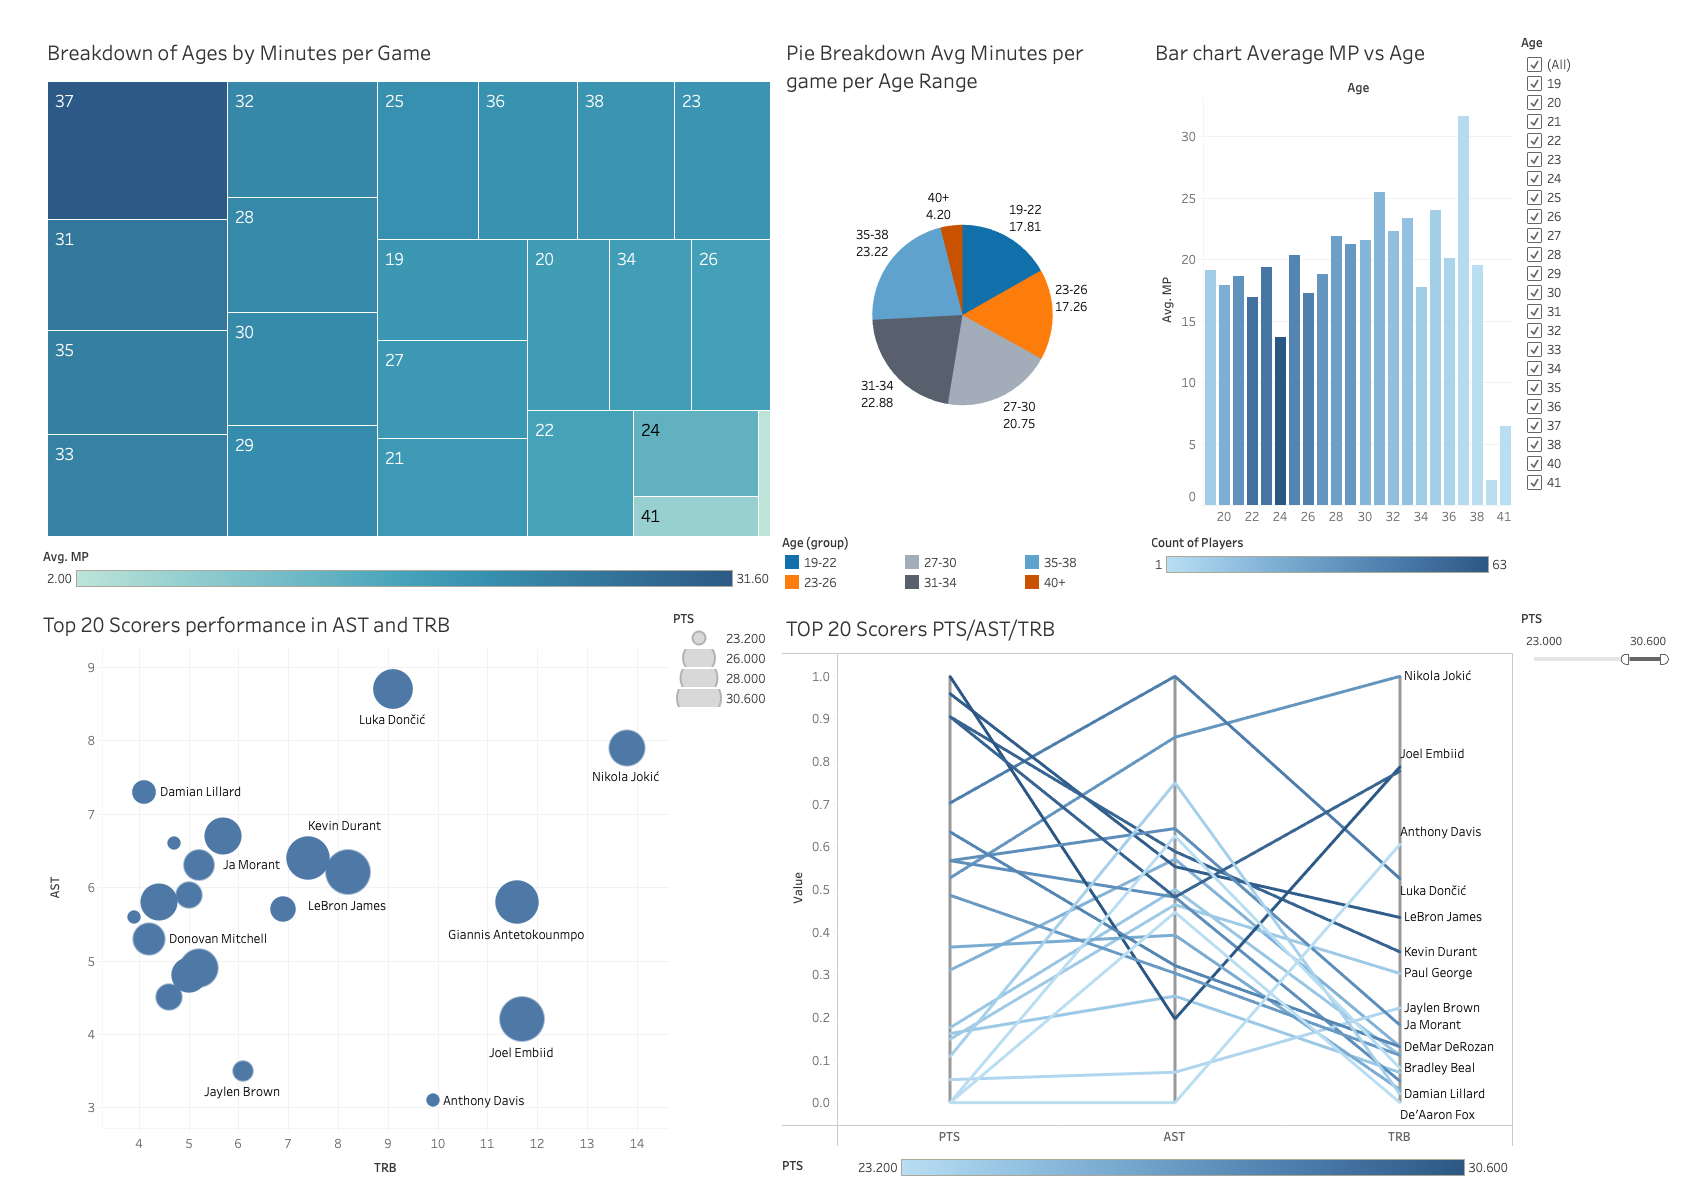

The page's visual inventory and layout, read from the dashboard file:
{"tool":"tableau","page":{"name":"Dashboard 1","canvas":[1654,1169],"ordinal":0},"visuals":[{"type":"worksheet","title":"Heatmap Age-MP","mark":"Automatic","box":[8,8,739,513.9]},{"type":"worksheet","title":"Pie Age-avgMP","mark":"Pie","box":[747,8,369.5,500]},{"type":"worksheet","title":"Column Age-AvgMP","mark":"Automatic","rows":["MP"],"cols":["Age"],"box":[1116.5,8,369.5,500]},{"type":"filter","title":"Heatmap Age-MP","param":"[federated.0pn93h61ed2x021986en00s475j0].[none:Age:ok]","box":[1486,8,160,469]},{"type":"legend","title":"Pie Age-avgMP","param":"[federated.0pn93h61ed2x021986en00s475j0].[Age (group)]","box":[747,508,369.5,76]},{"type":"legend","title":"Column Age-AvgMP","param":"[federated.0pn93h61ed2x021986en00s475j0].[__tableau_internal_object_id__].[cnt:W","box":[1116.5,508,369.5,76]},{"type":"legend","title":"Heatmap Age-MP","param":"[federated.0pn93h61ed2x021986en00s475j0].[avg:MP:qk]","box":[8,521.9,739,62.1]},{"type":"worksheet","title":"Scatter Top20 Scorers","mark":"Circle","rows":["AST"],"cols":["TRB"],"box":[8,584,629.8,577]},{"type":"legend","title":"Scatter Top20 Scorers","param":"[federated.0pn93h61ed2x021986en00s475j0].[none:PTS:qk]","box":[637.8,584,109.2,577]},{"type":"worksheet","title":"Parallel Top20","mark":"Line","box":[747,584,739,545]},{"type":"filter","title":"Scatter Top20 Scorers","param":"[federated.0pn93h61ed2x021986en00s475j0].[none:PTS:qk]","box":[1486,584,160,69]},{"type":"legend","title":"Parallel Top20","param":"[federated.0pn93h61ed2x021986en00s475j0].[sum:PTS:qk]","box":[747,1129,739,32]}]}

Visuals, with their boxes in screenshot pixels (x1, y1, x2, y2), scaled from the page's 1654x1169 canvas onto the 1696x1201 screenshot:
"Heatmap Age-MP" worksheet: rect(8, 8, 766, 536)
"Pie Age-avgMP" worksheet (Pie marks): rect(766, 8, 1145, 522)
"Column Age-AvgMP" worksheet: rect(1145, 8, 1524, 522)
"Heatmap Age-MP" filter: rect(1524, 8, 1688, 490)
"Pie Age-avgMP" legend: rect(766, 522, 1145, 600)
"Column Age-AvgMP" legend: rect(1145, 522, 1524, 600)
"Heatmap Age-MP" legend: rect(8, 536, 766, 600)
"Scatter Top20 Scorers" worksheet (Circle marks): rect(8, 600, 654, 1193)
"Scatter Top20 Scorers" legend: rect(654, 600, 766, 1193)
"Parallel Top20" worksheet (Line marks): rect(766, 600, 1524, 1160)
"Scatter Top20 Scorers" filter: rect(1524, 600, 1688, 671)
"Parallel Top20" legend: rect(766, 1160, 1524, 1193)
